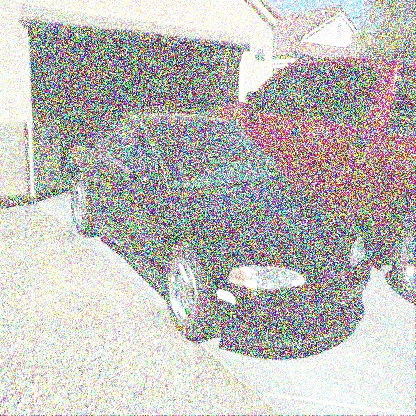Vehicle: (68, 110, 372, 348)
